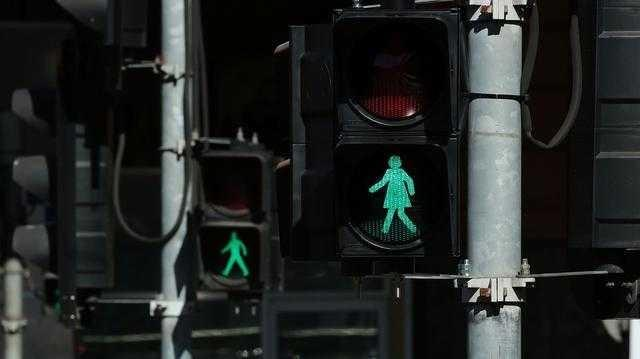green: (342, 143, 458, 264), (196, 221, 264, 291)
